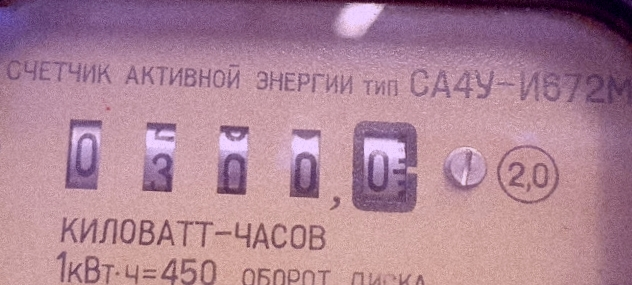0: (72, 127, 100, 179), (363, 145, 392, 195), (289, 148, 319, 196), (218, 147, 247, 196)
3: (145, 148, 175, 192)
screen: (43, 100, 428, 221)
